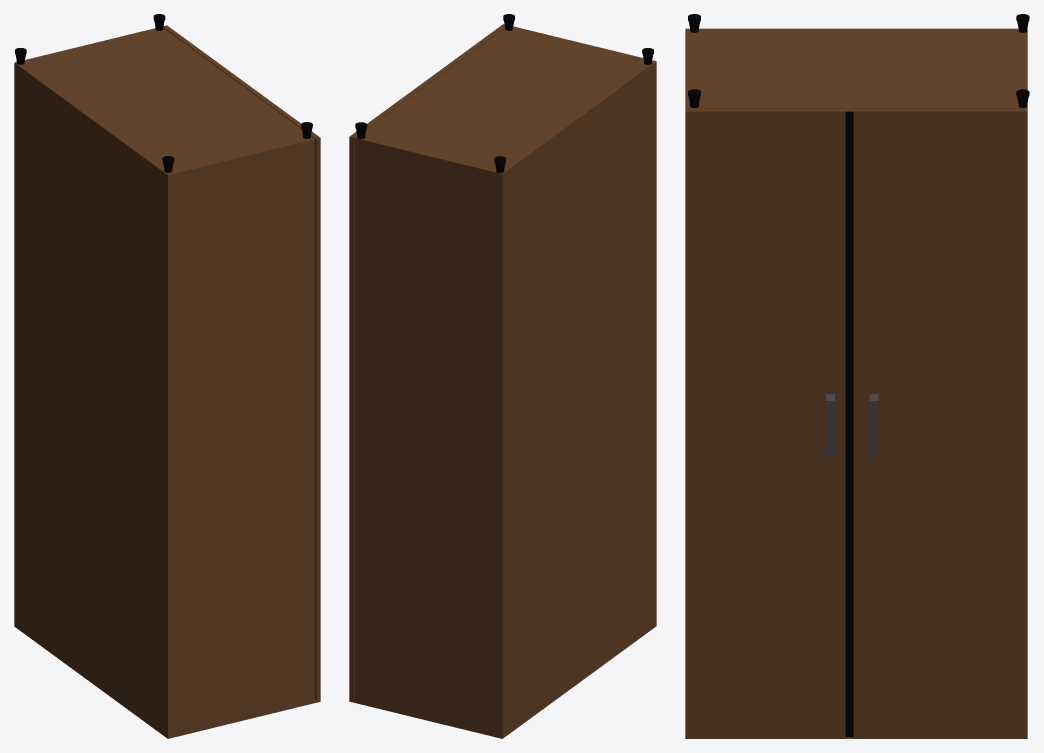
The model's file is Sradan_dolap1.fbx.
3 renders of one model, left to right at view 1: azimuth 30°, elevation 25°; view 2: azimuth 150°, elevation 25°; view 3: azimuth 270°, elevation 25°, orthographic. The views are drawn at different scales.
Visible parts, largest first — view 1: Cylinder.002; view 2: Cylinder.002; view 3: Cylinder.002.
Part boxes in pixels (x1,y1,x2,y2): Cylinder.002: (14,14,320,738); Cylinder.002: (349,14,656,738); Cylinder.002: (685,14,1029,738).
Size of the model in its own units: 207 by 687 by 334.
